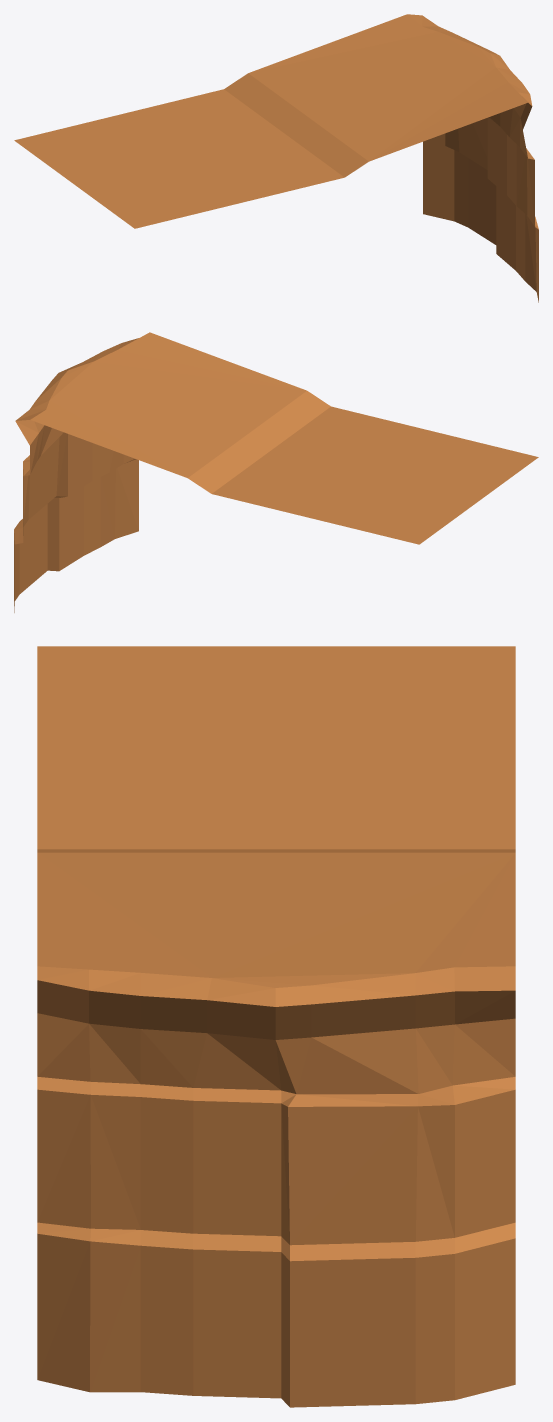
File: Collider_ground1.fbx
3 renders of one model, top to bottom at view 1: azimuth 30°, elevation 25°; view 2: azimuth 150°, elevation 25°; view 3: azimuth 270°, elevation 25°, orthographic. The views are drawn at different scales.
Parts seen in each view (by area): view 1: 平面.031; view 2: 平面.031; view 3: 平面.031.
Boxes of the visible parts, x1=… form: 平面.031: x1=14, y1=14, x2=538, y2=302; 平面.031: x1=14, y1=332, x2=538, y2=612; 平面.031: x1=37, y1=646, x2=515, y2=1407.
Size of the model in its own units: 4490 by 2172 by 2029.
